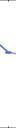line: (0, 46, 16, 59)
